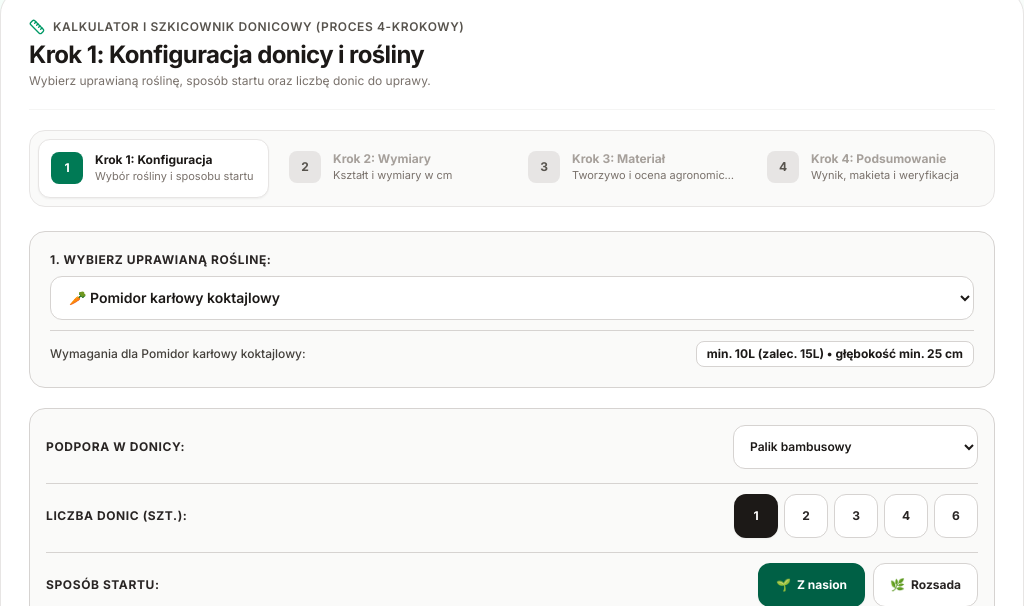
Test case: PotCalculator - 4 Clear Steps, Accessible Accordions & Sticky Footer › provides accessible accordions for soil layers, cost breakdown, and technical notes in step 4
# Go to step 4
Click the text "Krok 4: Podsumowanie" at (885, 159), box x1=811 y1=151 x2=959 y2=167
(page scrolled)
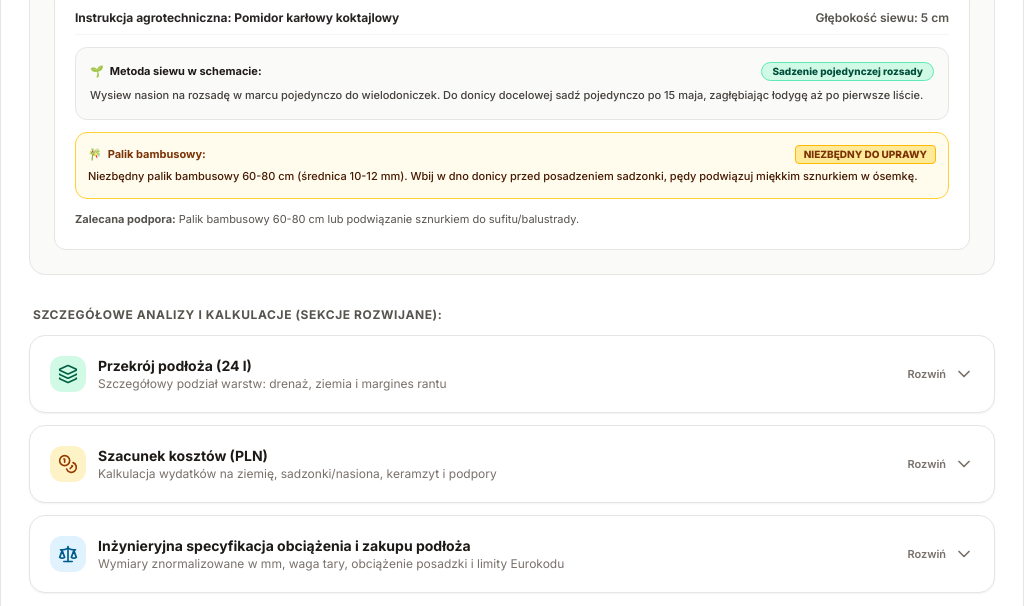
# Click to open layers accordion
Click the button "Przekrój podłoża" at (68, 374), box x1=30 y1=336 x2=994 y2=412
(page scrolled)
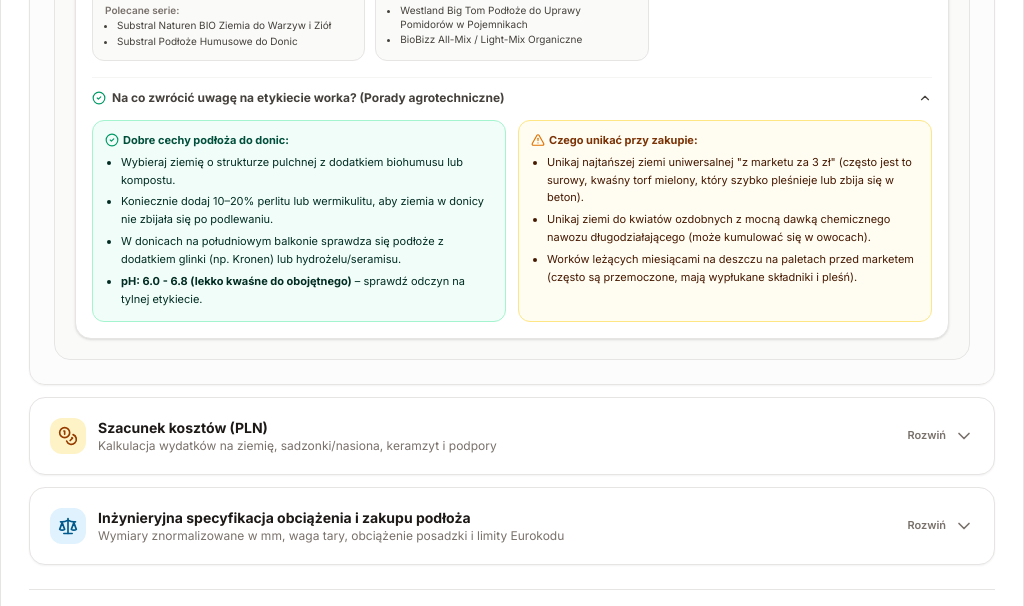
Click the button "Szacunek kosztów" at (68, 436), box x1=30 y1=398 x2=994 y2=474
(page scrolled)
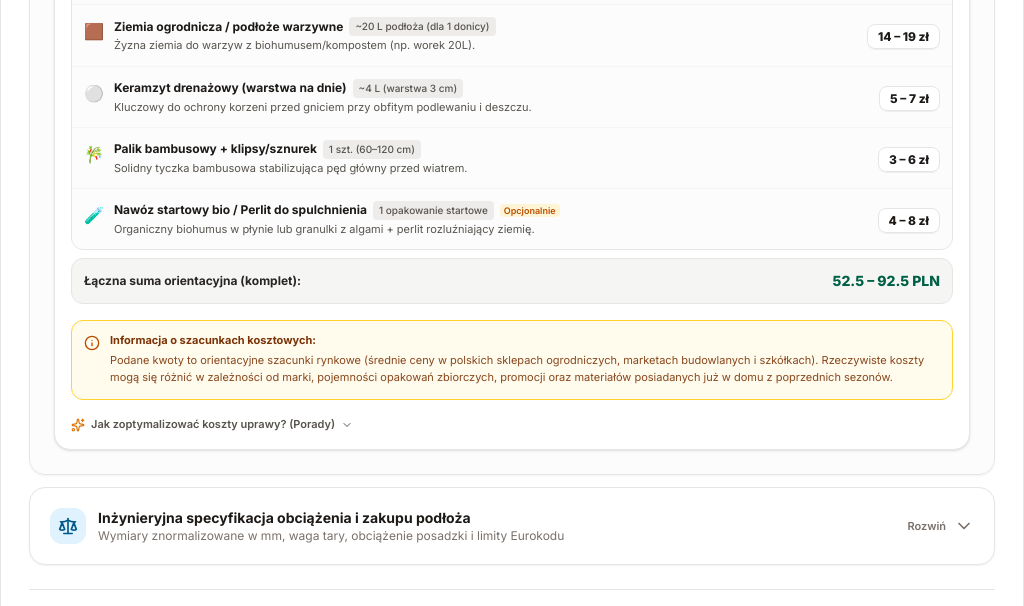
Click the button "Inżynieryjna specyfikacja obciążenia" at (512, 526), box x1=30 y1=488 x2=994 y2=564
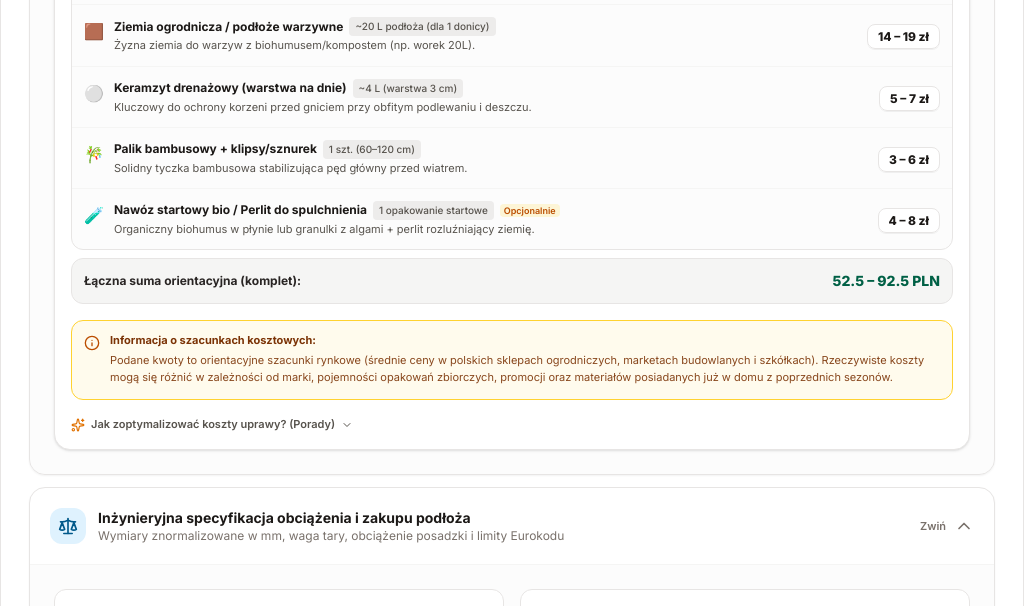
Now the button "Inżynieryjna specyfikacja obciążenia" is expanded, box x1=30 y1=488 x2=994 y2=564
